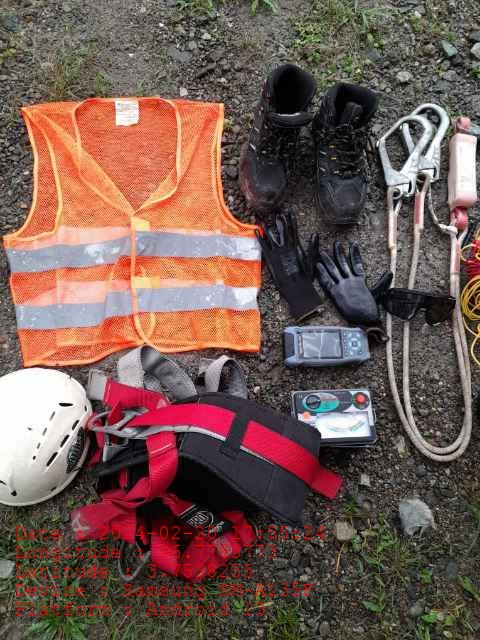ROMPI: (27, 97, 241, 357)
SARUNG_TANGAN: (253, 210, 327, 317), (318, 240, 391, 326)
SEPATU: (237, 65, 375, 221)
